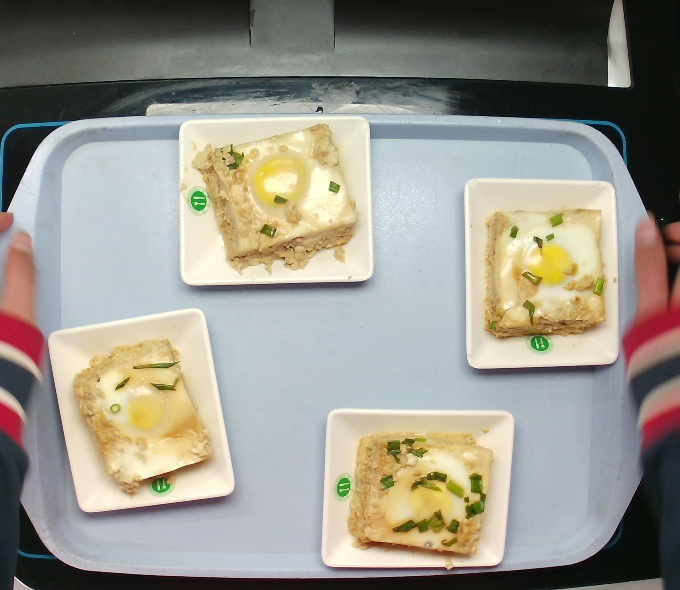wcq-RouMoZhengDan: (342, 401, 498, 582), (464, 191, 623, 357), (199, 121, 357, 278), (72, 333, 215, 498)
